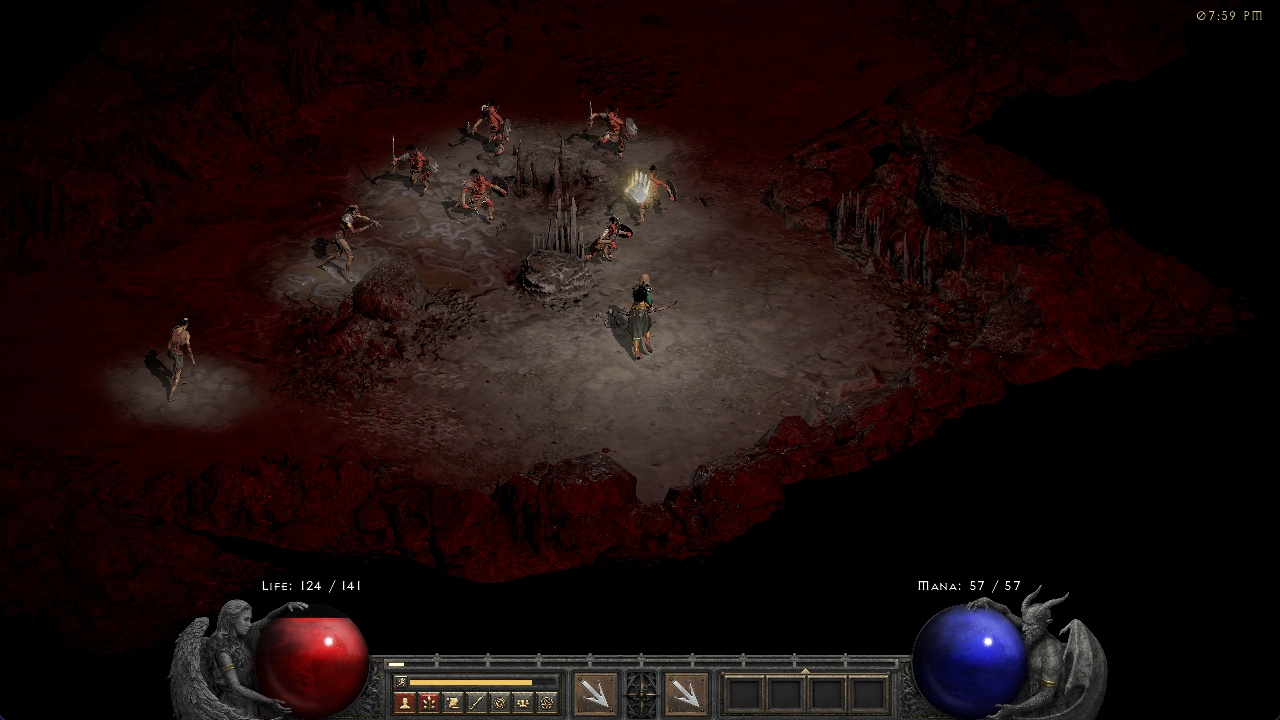fallen: (386, 136, 435, 191), (462, 102, 513, 154), (453, 172, 506, 222), (583, 102, 635, 151), (592, 217, 632, 262), (648, 164, 671, 216)
